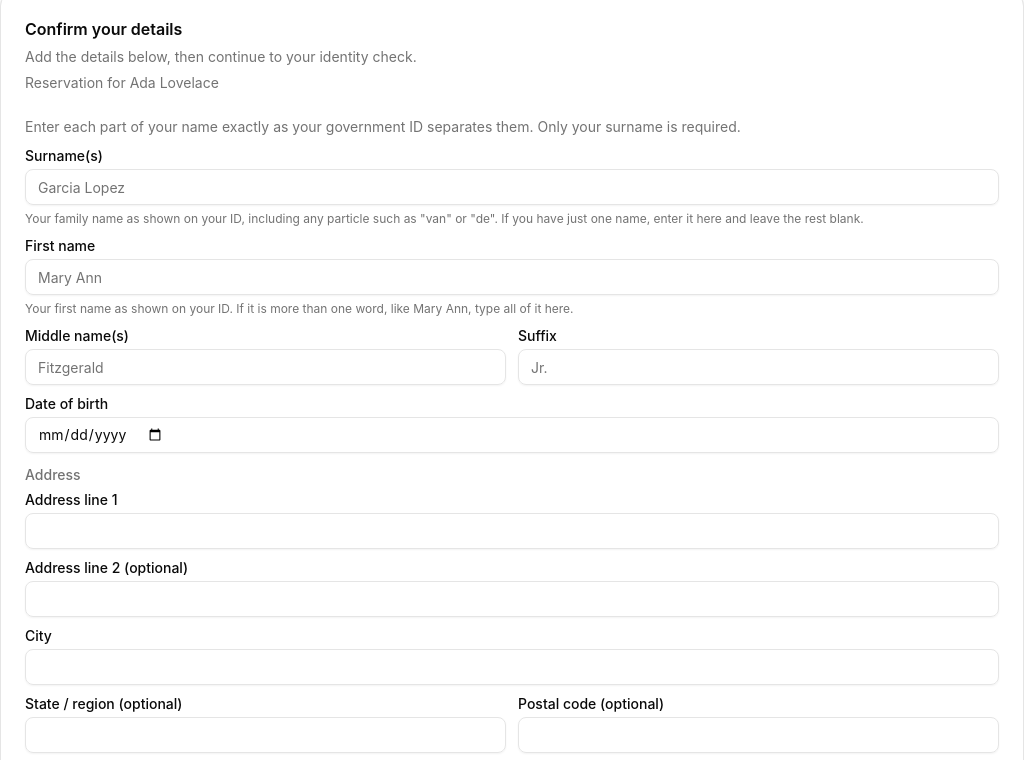
Test case: CheckInCollectForm › names the collected field groups in the validation_failed hint
Type "1990-01-02" into the date field labelled "Date of birth".
click(512, 435); type("1990-01-02")  # box [25, 417, 999, 453]
Type "Lovelace" into the field labelled "Surname(s)".
click(512, 187); type("Lovelace")  # box [25, 169, 999, 205]
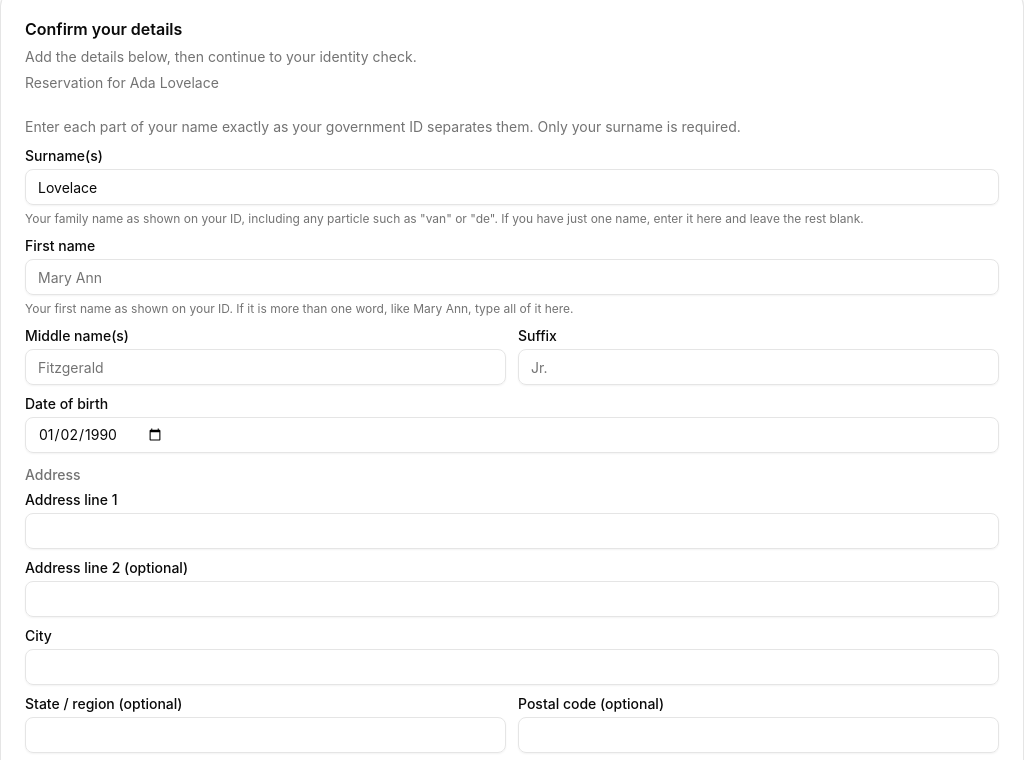
Type "Ada" into the field labelled "First name".
click(512, 277); type("Ada")  # box [25, 259, 999, 295]
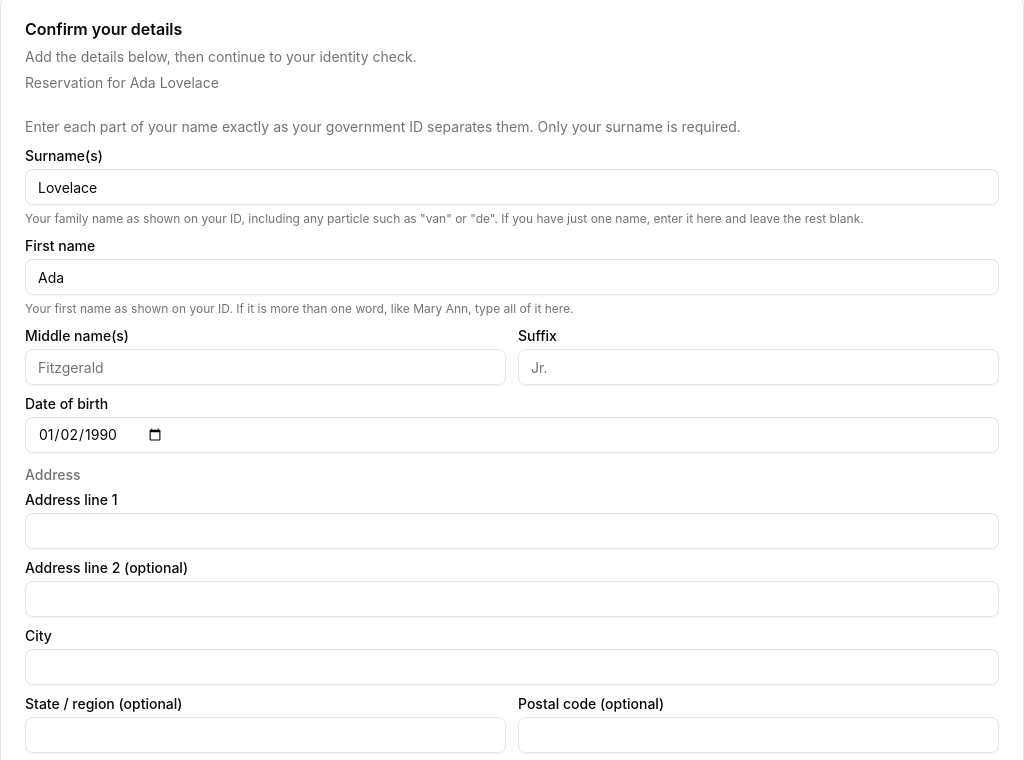
Type "1 Analytical Way" into the field labelled "Address line 1".
click(512, 531); type("1 Analytical Way")  # box [25, 513, 999, 549]
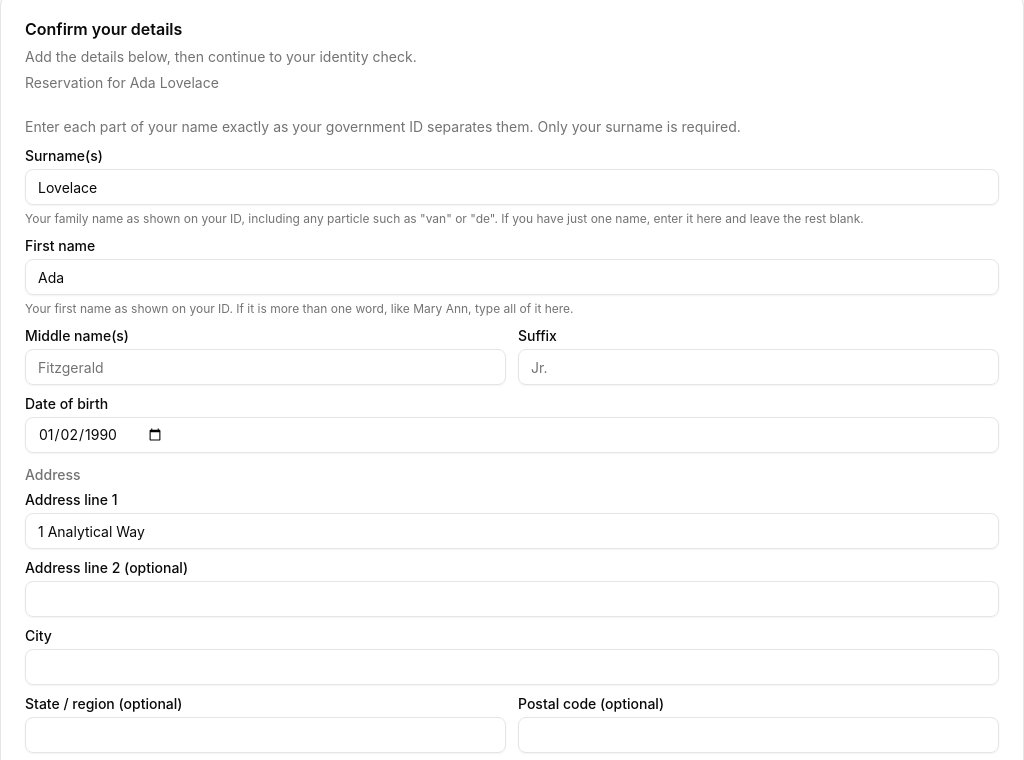
Type "London" into the field labelled "City".
click(512, 667); type("London")  # box [25, 649, 999, 685]
(page scrolled)
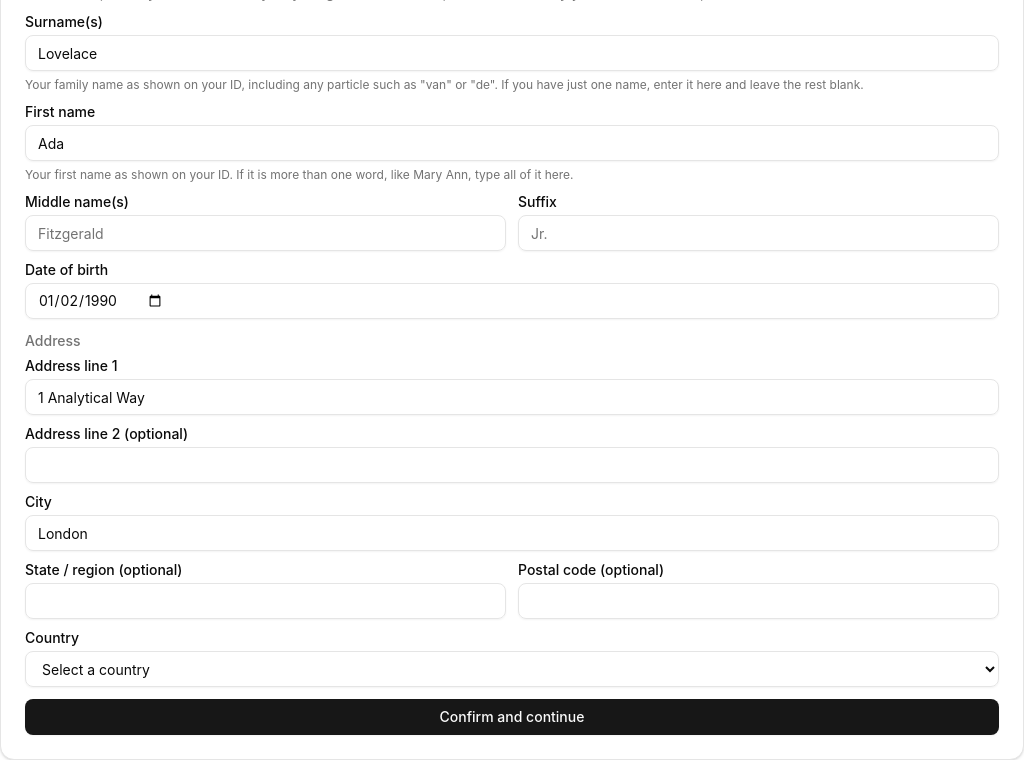
Select "United Kingdom" in the dropdown labelled "Country" at coordinates (512, 669), box [25, 651, 999, 687]
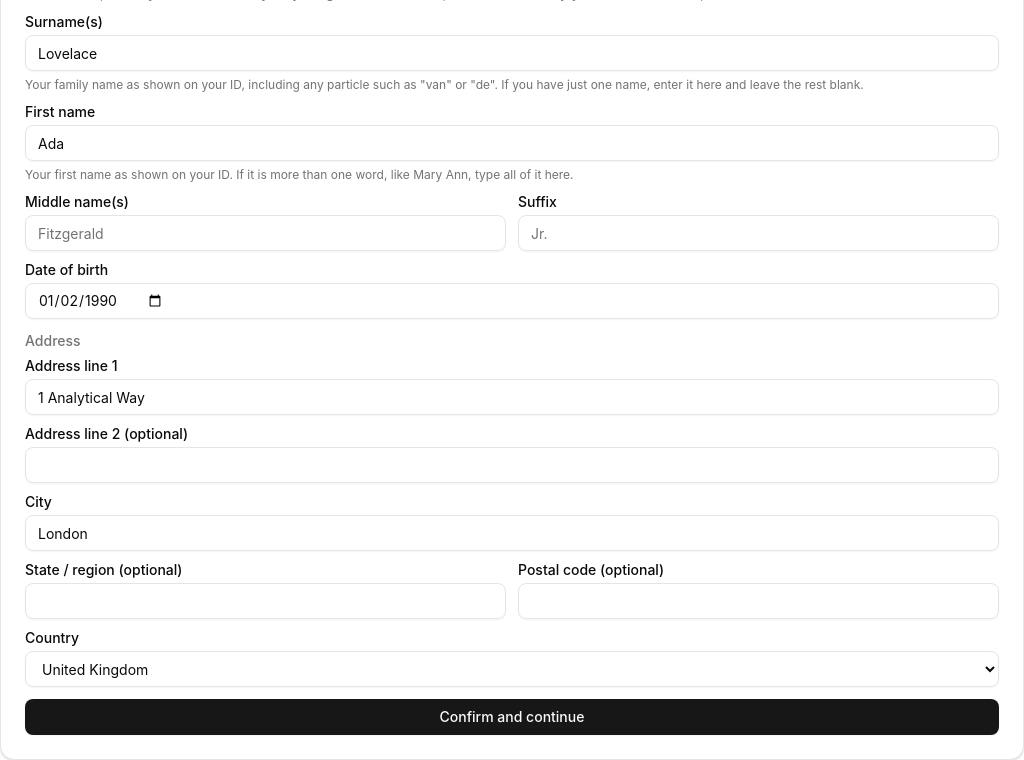
Click the button "Confirm and continue".
click(512, 717)  # box [25, 699, 999, 735]
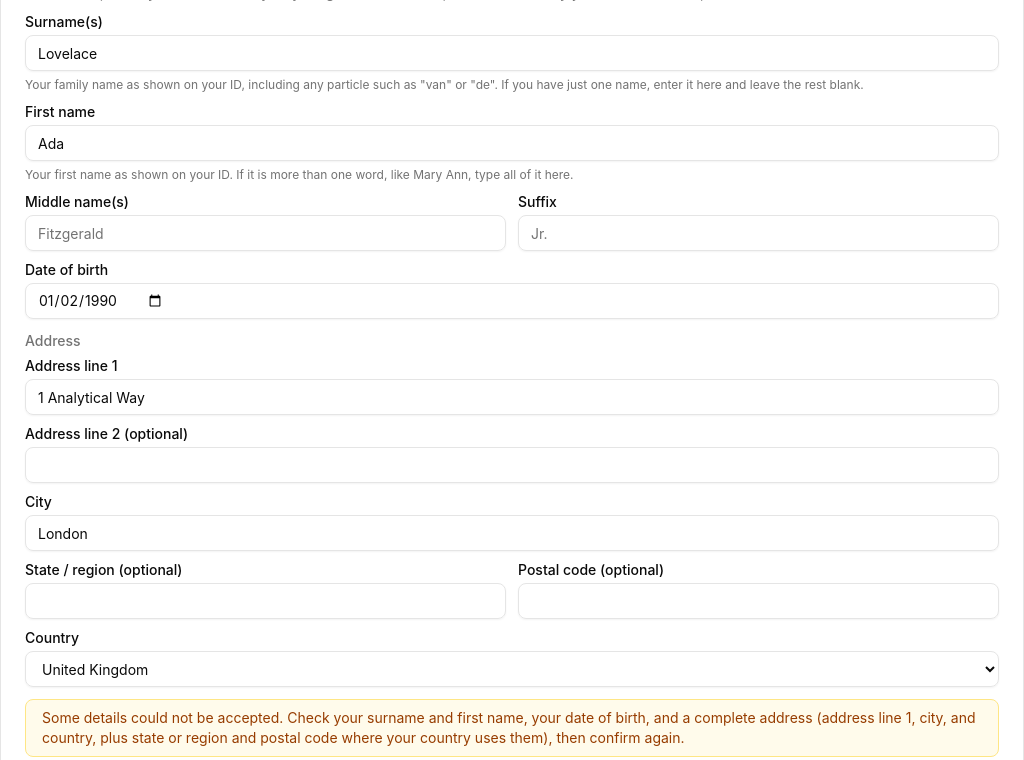
Now the message shows "your surname and first name", box [42, 709, 976, 746]
Now the message shows "your date of birth", box [42, 709, 976, 746]
Now the message shows "complete address", box [42, 709, 976, 746]
